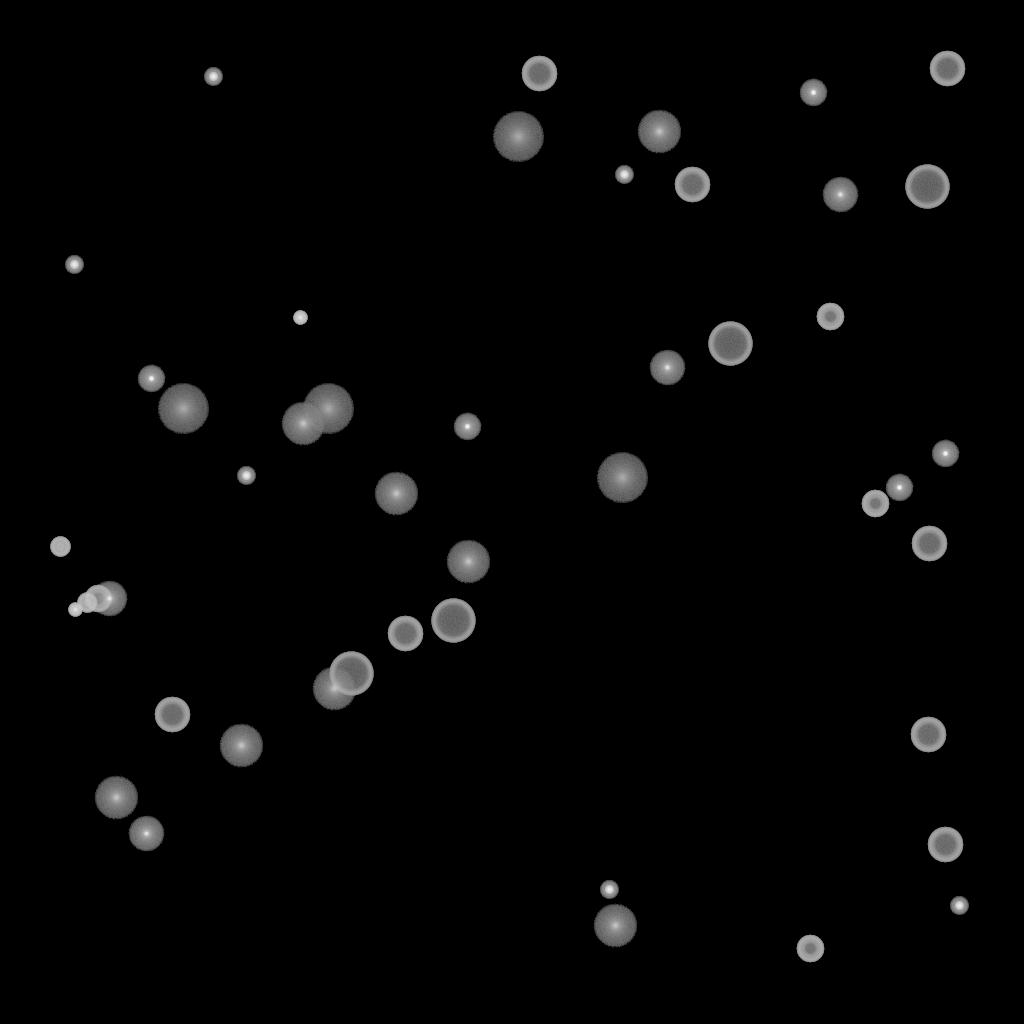depth:-10: (799, 79, 827, 107), (137, 365, 165, 393), (885, 474, 913, 502), (931, 440, 959, 468), (453, 413, 481, 441)
depth:-20: (950, 897, 968, 915), (615, 166, 633, 184), (65, 256, 83, 274), (237, 467, 255, 485), (600, 881, 618, 899), (204, 68, 222, 86)
depth:-30: (68, 603, 82, 617), (293, 311, 307, 325)
depth:-40: (50, 537, 70, 557), (77, 593, 97, 613)
depth:-50: (816, 303, 844, 331), (796, 935, 824, 963), (861, 490, 889, 518), (84, 585, 112, 613)
depth:-60: (521, 56, 557, 92), (154, 697, 190, 733), (674, 167, 710, 203), (910, 717, 946, 753), (911, 526, 947, 562), (927, 827, 963, 863), (387, 616, 423, 652), (929, 51, 965, 87)
depth:-70: (329, 652, 373, 696), (708, 322, 752, 366), (431, 599, 475, 643), (905, 165, 949, 209)
depth:0: (822, 177, 858, 213), (649, 350, 685, 386), (91, 581, 127, 617), (128, 816, 164, 852)
depth:10: (593, 904, 637, 948), (219, 724, 263, 768), (446, 540, 490, 584), (94, 776, 138, 820), (281, 402, 325, 446), (312, 667, 356, 711), (637, 110, 681, 154), (374, 472, 418, 516)
depth:20: (157, 384, 209, 434), (492, 112, 544, 162), (596, 453, 648, 503), (302, 384, 354, 434)
